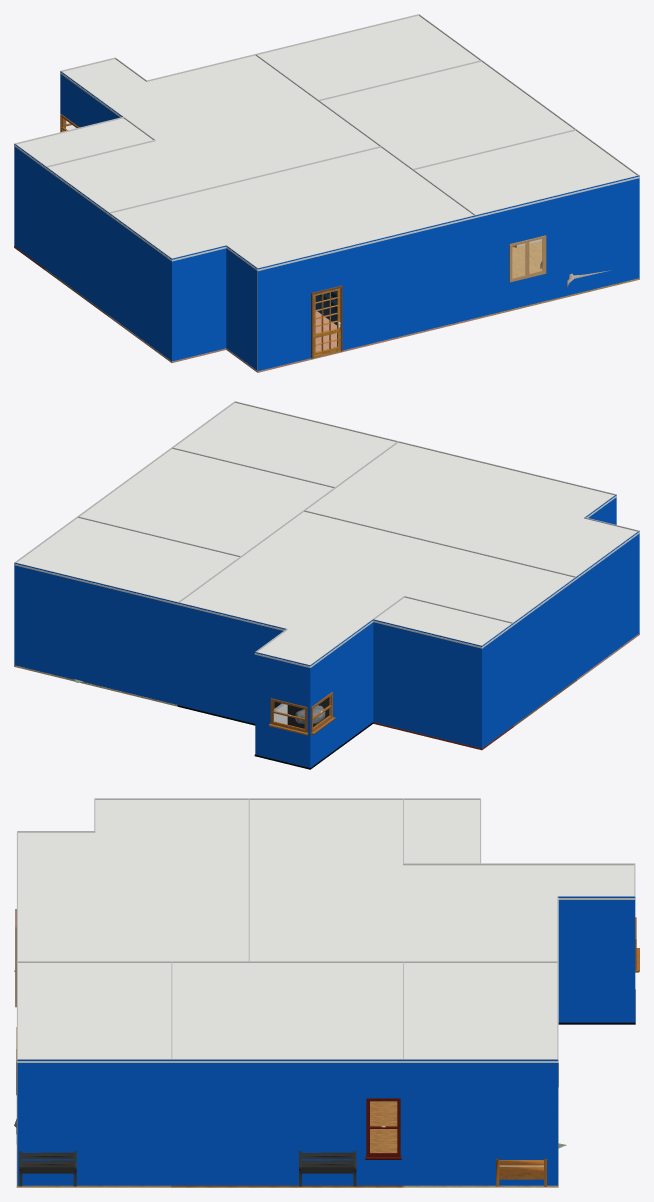
File: ProcTHOR-Train-65.glb
3 views of the same model, one above another, from view 1: azimuth 30°, elevation 25°; view 2: azimuth 150°, elevation 25°; view 3: azimuth 270°, elevation 25° (orthographic). The views are drawn at different scales.
Parts seen in each view (by area): view 1: Ceiling#room|3|c, WallInside#wall|exterior|5.49|14.63|12.80|14.63, Ceiling#room|2|c, WallInside#wall|exterior|0.00|14.63|5.49|14.63, Ceiling#room|6|c, Ceiling#room|4|c, Ceiling#room|7|c, Ceiling#room|8|c, WallInside#wall|exterior|14.63|9.15|14.63|12.80, WallInside#wall|exterior|14.63|5.49|14.63|9.15, WallInside#wall|exterior|12.80|12.80|14.63|12.80, WallInside#wall|exterior|14.63|3.66|14.63|5.49 (+8 smaller); view 2: Ceiling#room|3|c, WallInside#wall|exterior|0.00|1.83|5.49|1.83, Ceiling#room|2|c, Ceiling#room|6|c, Ceiling#room|4|c, WallInside#wall|exterior|10.97|3.66|14.63|3.66, Ceiling#room|8|c, Ceiling#room|7|c, WallInside#wall|exterior|5.49|1.83|9.15|1.83, WallInside#wall|exterior|14.63|9.15|14.63|12.80, WallInside#wall|exterior|14.63|5.49|14.63|9.15, WallInside#wall|exterior|10.97|0.00|10.97|3.66 (+6 smaller); view 3: Ceiling#room|3|c, WallInside#wall|exterior|0.00|5.49|0.00|10.97, Ceiling#room|2|c, Ceiling#room|6|c, WallInside#wall|exterior|0.00|1.83|0.00|5.49, WallInside#wall|exterior|0.00|10.97|0.00|14.63, Ceiling#room|4|c, Ceiling#room|8|c, Ceiling#room|7|c, WallInside#wall|exterior|9.15|0.00|9.15|1.83, Ceiling#room|5|c, Bed_7 (×2) (+4 smaller).
Boxes of the visible parts, x1,y1,x2,y2 form: Ceiling#room|3|c: (109, 147, 476, 271); WallInside#wall|exterior|5.49|14.63|12.80|14.63: (258, 215, 476, 370); Ceiling#room|2|c: (45, 101, 378, 214); WallInside#wall|exterior|0.00|14.63|5.49|14.63: (475, 175, 639, 317); Ceiling#room|6|c: (319, 61, 573, 168); Ceiling#room|4|c: (60, 55, 317, 140); Ceiling#room|7|c: (415, 130, 639, 217); Ceiling#room|8|c: (255, 15, 479, 99); WallInside#wall|exterior|14.63|9.15|14.63|12.80: (108, 212, 171, 361); WallInside#wall|exterior|14.63|5.49|14.63|9.15: (45, 167, 108, 314); WallInside#wall|exterior|12.80|12.80|14.63|12.80: (172, 245, 226, 361); WallInside#wall|exterior|14.63|3.66|14.63|5.49: (14, 143, 46, 268); Ceiling#room|3|c: (306, 442, 639, 578); WallInside#wall|exterior|0.00|1.83|5.49|1.83: (14, 562, 178, 704); Ceiling#room|2|c: (242, 511, 576, 625); Ceiling#room|6|c: (80, 448, 333, 555); Ceiling#room|4|c: (177, 557, 402, 667); WallInside#wall|exterior|10.97|3.66|14.63|3.66: (373, 619, 481, 748); Ceiling#room|8|c: (14, 518, 241, 604); Ceiling#room|7|c: (174, 402, 396, 486); WallInside#wall|exterior|5.49|1.83|9.15|1.83: (177, 602, 286, 723); WallInside#wall|exterior|14.63|9.15|14.63|12.80: (576, 531, 639, 678); WallInside#wall|exterior|14.63|5.49|14.63|9.15: (514, 577, 576, 724); WallInside#wall|exterior|10.97|0.00|10.97|3.66: (310, 619, 373, 767); Ceiling#room|3|c: (16, 799, 249, 963); WallInside#wall|exterior|0.00|5.49|0.00|10.97: (171, 1059, 403, 1185); Ceiling#room|2|c: (248, 800, 404, 963); Ceiling#room|6|c: (171, 963, 404, 1062); WallInside#wall|exterior|0.00|1.83|0.00|5.49: (403, 1059, 558, 1185); WallInside#wall|exterior|0.00|10.97|0.00|14.63: (17, 1059, 172, 1185); Ceiling#room|4|c: (403, 865, 635, 963); Ceiling#room|8|c: (402, 963, 558, 1062); Ceiling#room|7|c: (16, 963, 172, 1062); WallInside#wall|exterior|9.15|0.00|9.15|1.83: (558, 896, 635, 1022); Ceiling#room|5|c: (402, 799, 481, 863); Bed_7 (×2): (14, 1118, 356, 1186).
Size of what is drawn, in the model's own units: 14.77 by 3.35 by 14.84.
Materials: 407 (148 with a texture image).
